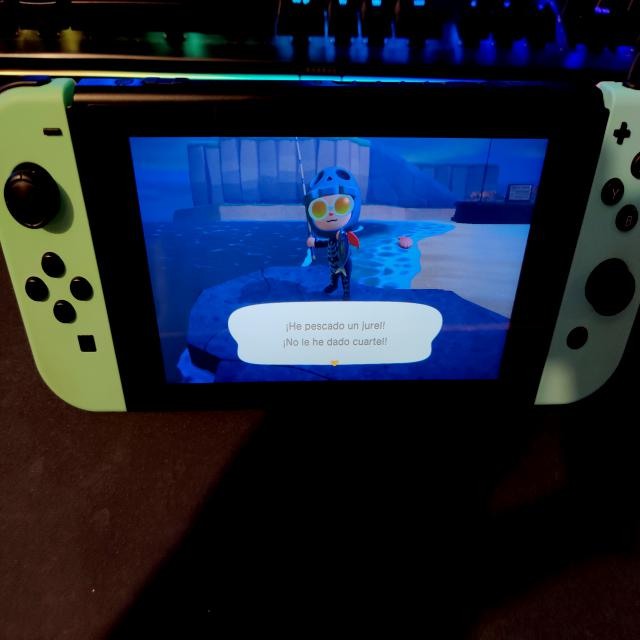text_bubble: (228, 300, 446, 369)
